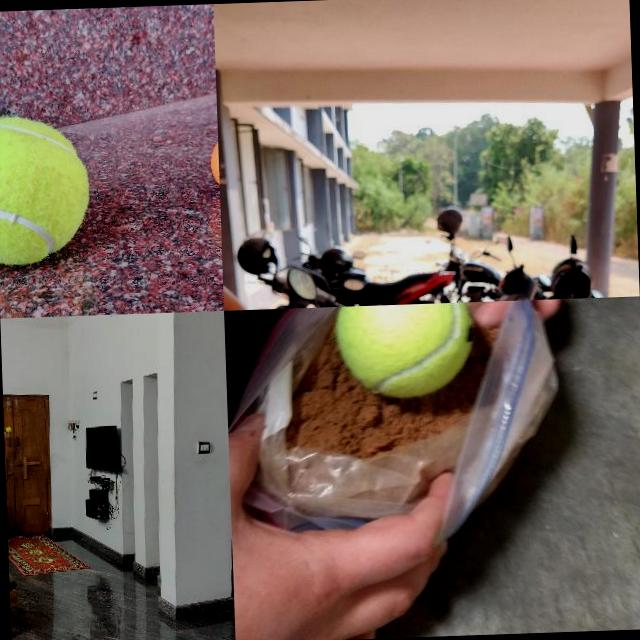Tennis Ball: (334, 302, 476, 402), (0, 112, 90, 265), (6, 427, 12, 432)
